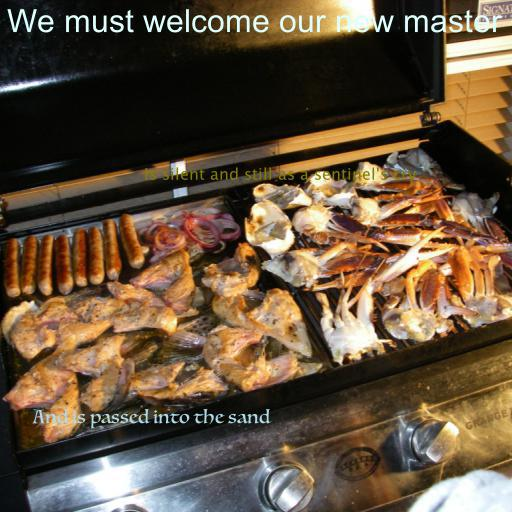Arial: (6, 9, 502, 33)
Lucida Grande: (144, 167, 416, 183)
Luminari: (32, 408, 270, 429)
